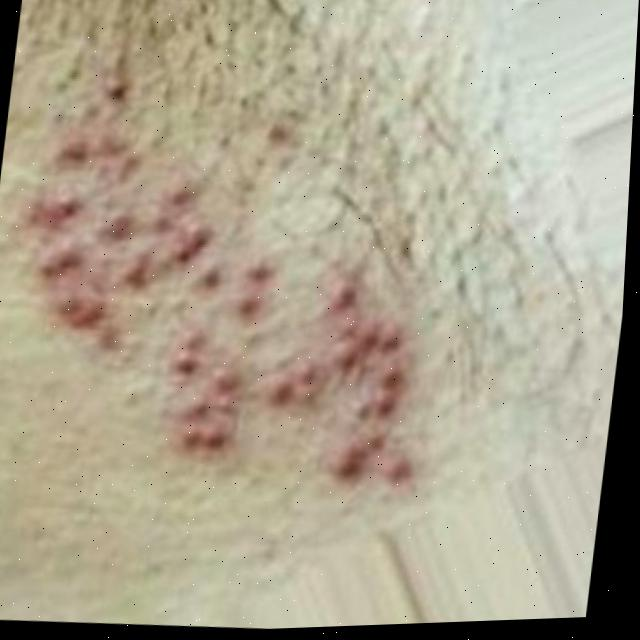Shingles: (0, 90, 458, 519)
